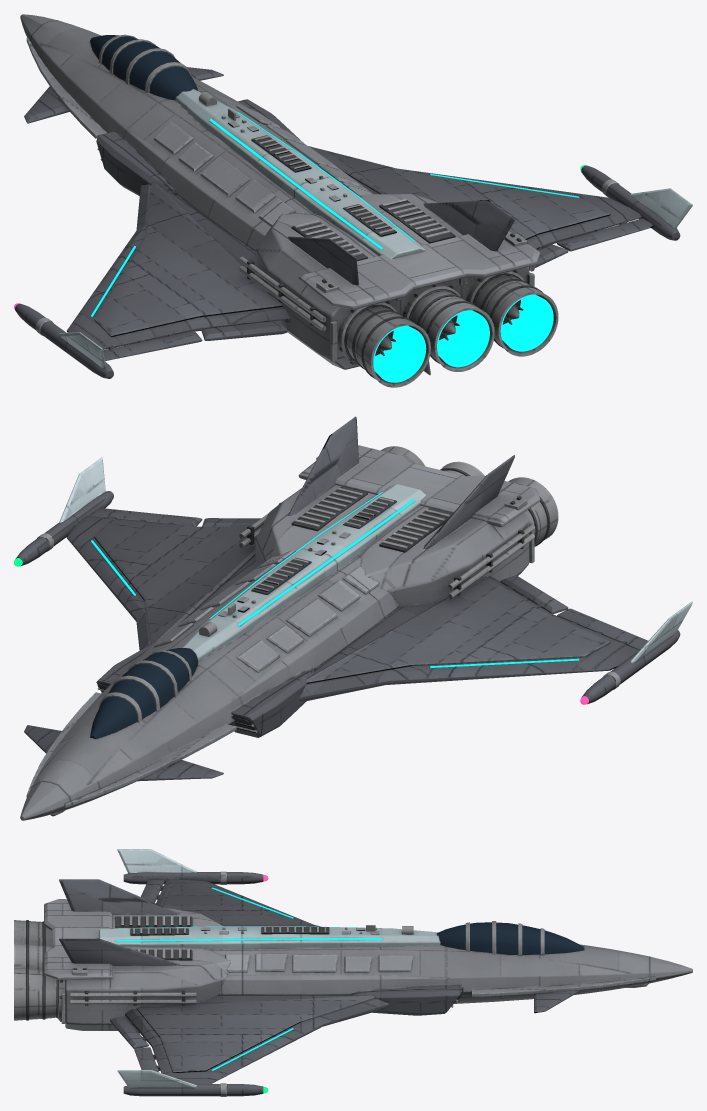
File: spaceship.glb
3 views of the same model, one above another, from view 1: azimuth 30°, elevation 25°; view 2: azimuth 150°, elevation 25°; view 3: azimuth 270°, elevation 25° (orthographic). The views are drawn at different scales.
Visible parts, largest first — view 1: Spaceship; view 2: Spaceship; view 3: Spaceship.
Part boxes in pixels (x1,y1,x2,y2): Spaceship: (14, 14, 692, 387); Spaceship: (14, 416, 692, 820); Spaceship: (14, 849, 692, 1096).
Bounding box in the file's own units: 5.41 × 1.23 × 7.
Materials: 9 (4 with a texture image).
